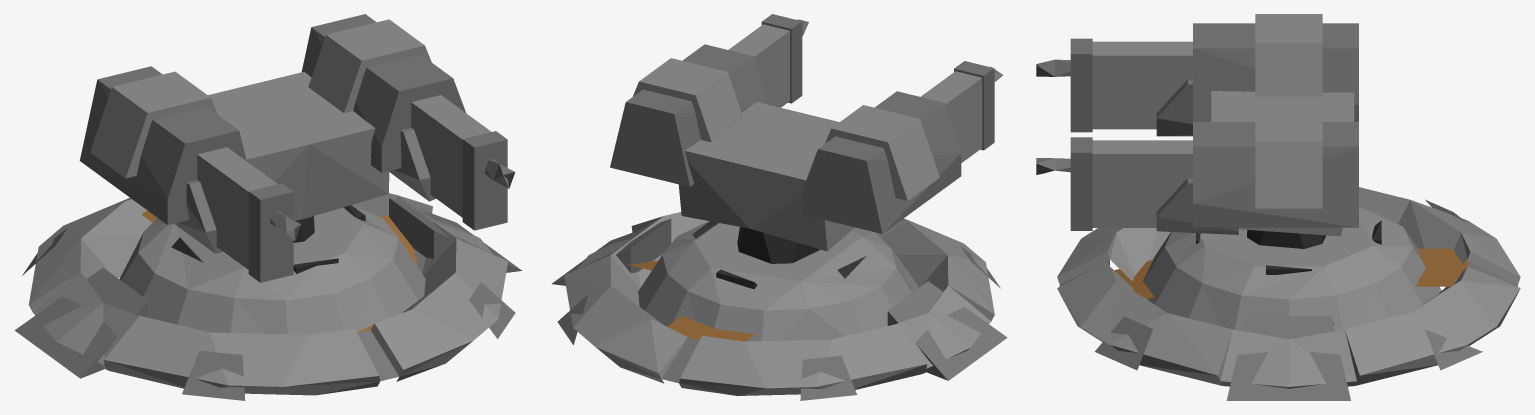
File: turret_gun_lod.glb
3 views of the same model, side by side, from view 1: azimuth 30°, elevation 25°; view 2: azimuth 150°, elevation 25°; view 3: azimuth 270°, elevation 25° (orthographic). The views are drawn at different scales.
Parts seen in each view (by area): view 1: Turret_GunDouble_Base, Turret_GunDouble_Top; view 2: Turret_GunDouble_Base, Turret_GunDouble_Top; view 3: Turret_GunDouble_Base, Turret_GunDouble_Top.
Part boxes in pixels (<box>): Turret_GunDouble_Base: <box>15,193,522,400</box>; Turret_GunDouble_Top: <box>79,14,515,282</box>; Turret_GunDouble_Base: <box>552,212,1007,400</box>; Turret_GunDouble_Top: <box>610,14,1003,263</box>; Turret_GunDouble_Base: <box>1057,187,1520,400</box>; Turret_GunDouble_Top: <box>1036,14,1358,248</box>.
Size of the model in its own units: 1.16 by 0.587 by 1.16.
